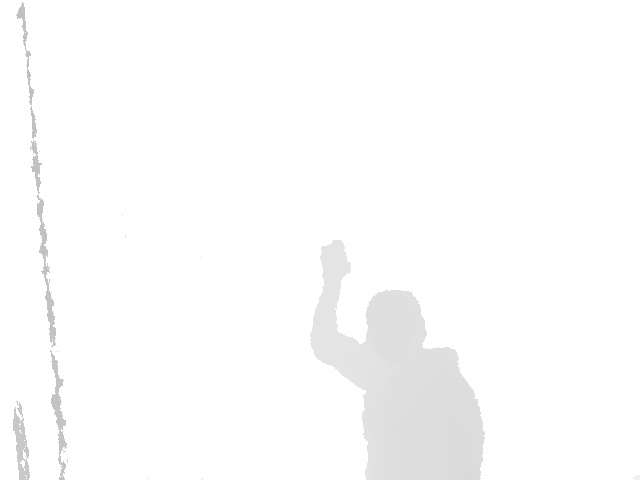hand: (319, 239, 352, 289)
head: (364, 288, 428, 356)
person: (310, 239, 486, 480)
